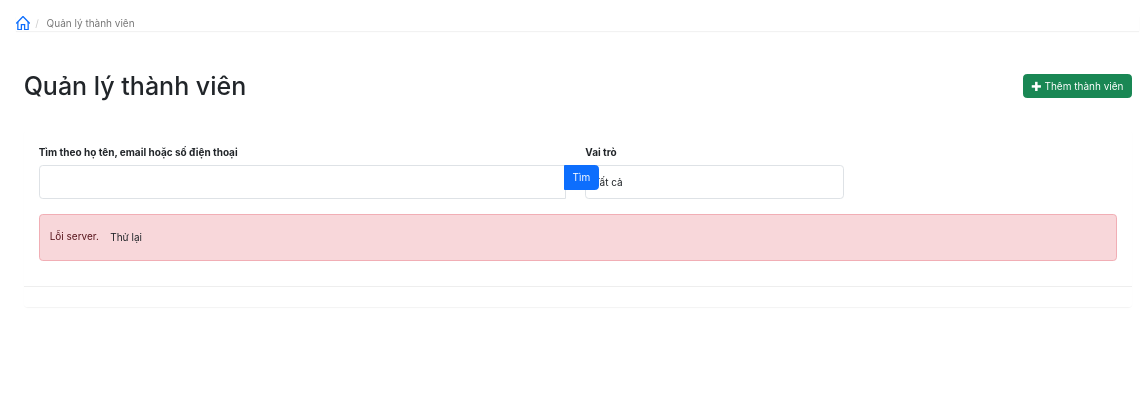
Scenario: API lỗi -> thông báo và thử lại
The width and height of the screenshot is (1147, 399).
Expected: the message shows "Lỗi server.", [50,230,99,242]
Click the button "Thử lại". click: coordinates (126, 237)
box: [102,225,150,250]
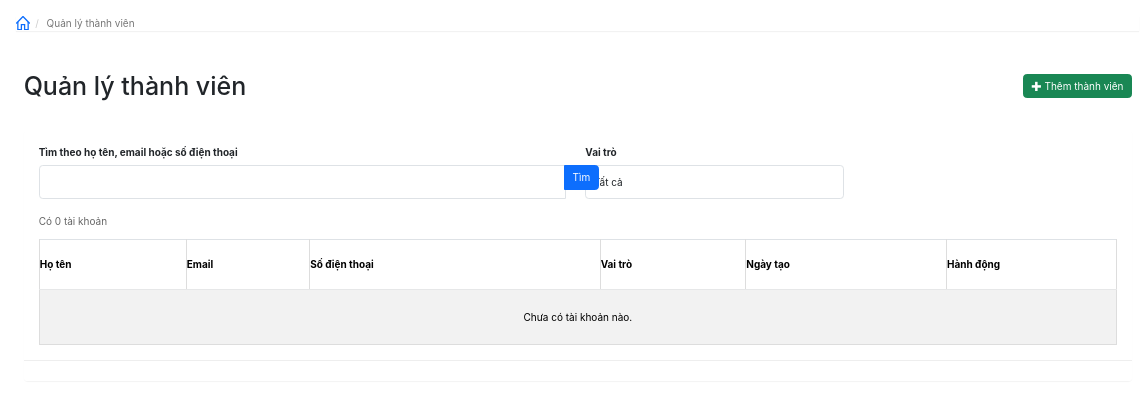
Now the text "Chưa có tài khoản nào." is shown, box [39,290,1116,345]
